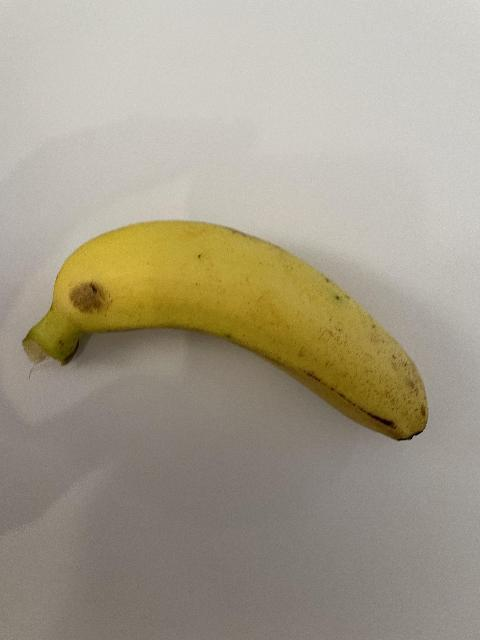banana: (22, 220, 428, 442)
